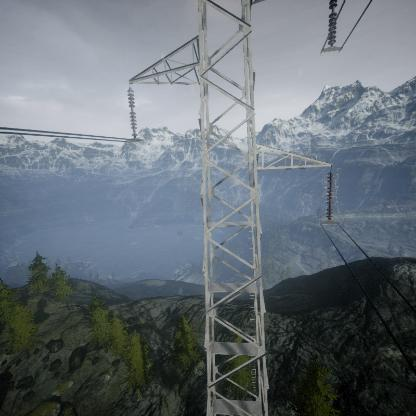insulator: (125, 86, 141, 138), (325, 171, 337, 220), (326, 1, 338, 47)
